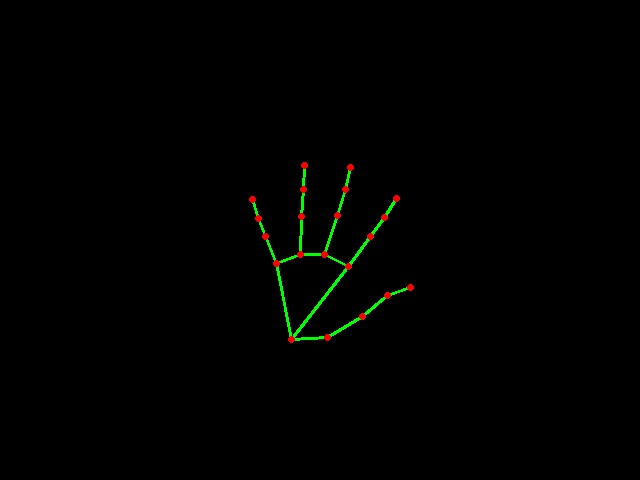stop: (239, 151, 422, 357)
